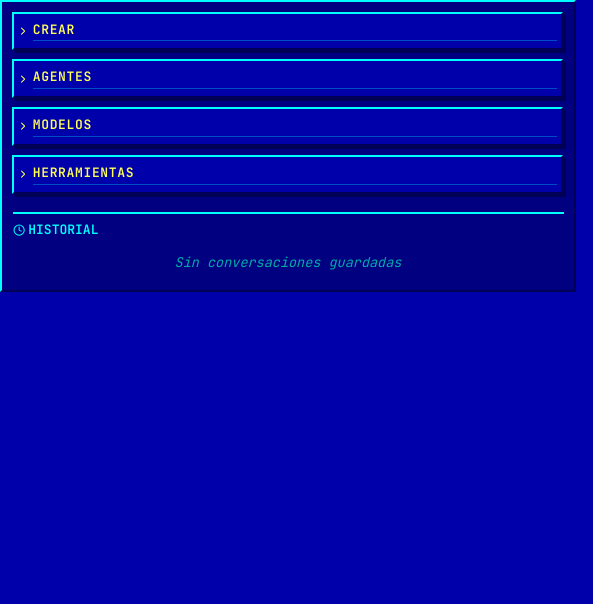
Sidebar (panel lateral agrupado) › los modos siguen accesibles dentro de su grupo
This screenshot has width=593, height=604.
Click the button "Crear" at {"x": 287, "y": 31}, box [12,12,562,50]
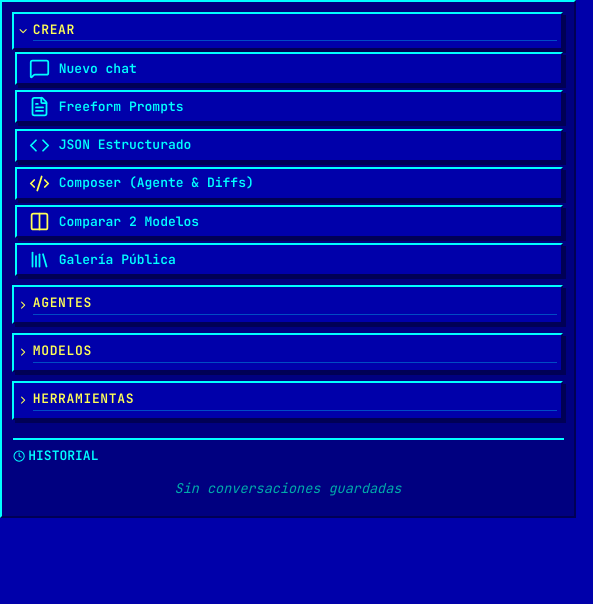
Click the button "Agentes" at {"x": 287, "y": 305}, box [12,285,562,324]
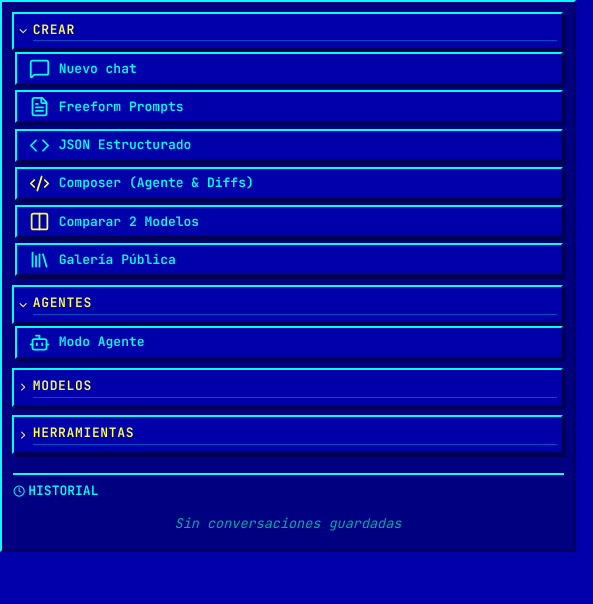
Click the button "Herramientas" at {"x": 287, "y": 435}, box [12,415,562,454]
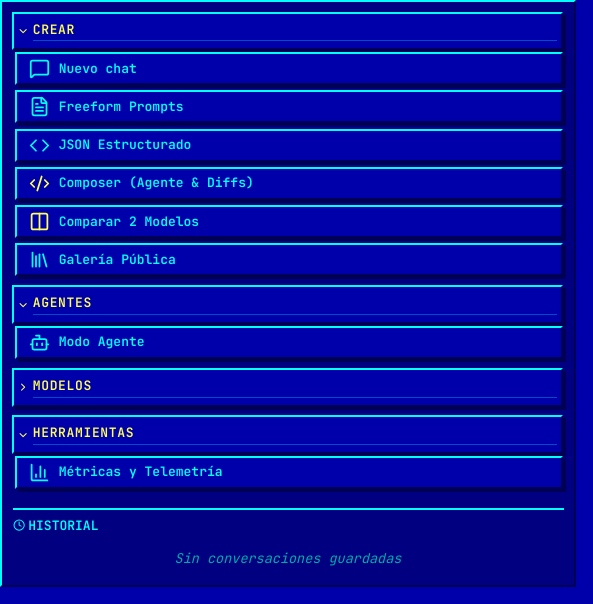
Expected: the button "Nuevo chat" is shown, [15,52,562,85]
Expected: the button "Modo Agente" is shown, [15,326,562,359]
Expected: the button "Métricas y Telemetría" is shown, [15,456,562,489]
